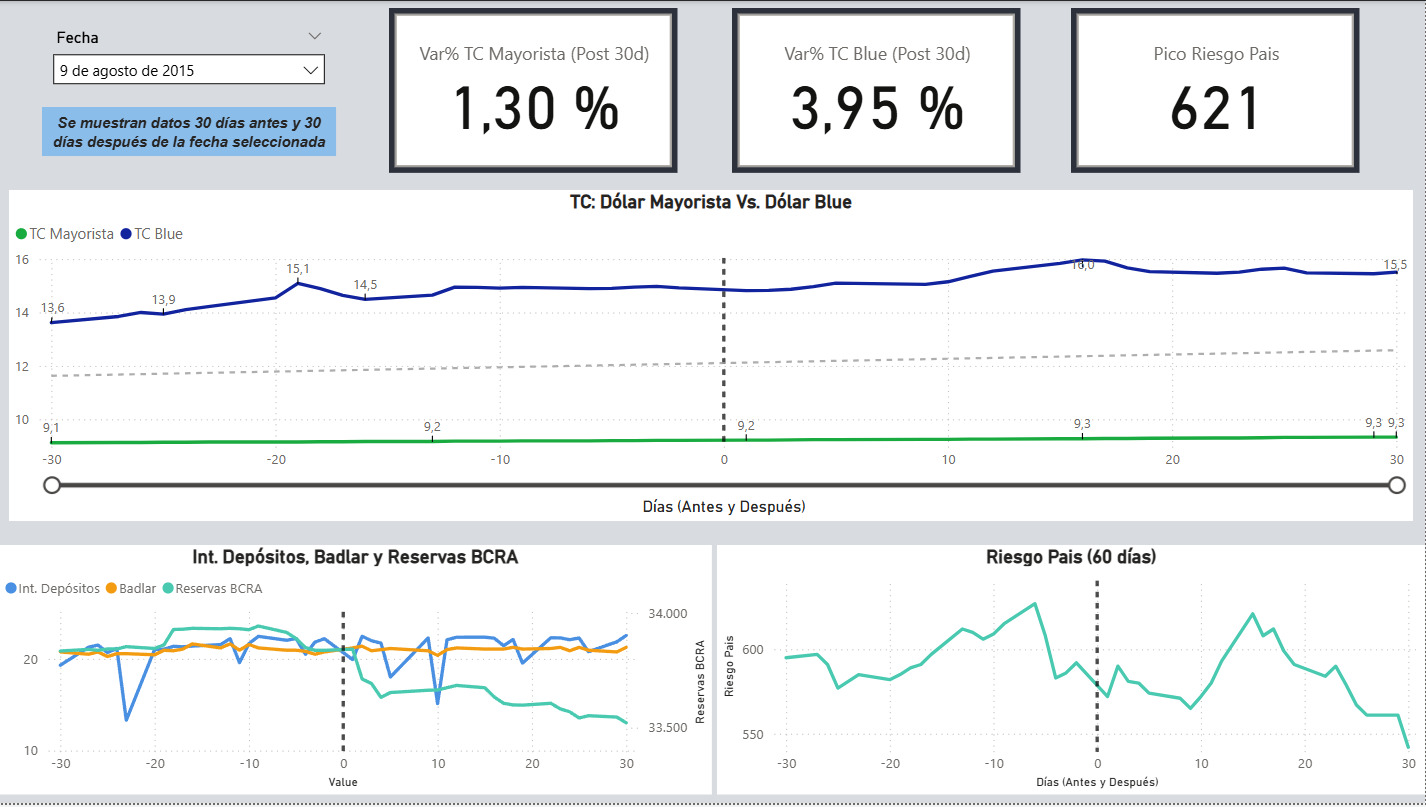

The page's visual inventory and layout, read from the dashboard file:
{"tool":"powerbi","page":{"name":"TC elecciones","canvas":[1280,720],"ordinal":0},"visuals":[{"type":"cardVisual","fields":{"Data":["Medidas Dax.Var% TC Mayorista (Post 30d)"]},"box":[350.1,6.3,259.5,148.1],"z":0},{"type":"lineChart","title":"TC: Dólar Mayorista Vs. Dólar Blue","fields":{"Category":["Dias Relativos.Value"],"Y":["Medidas Dax.TC Mayorista por Dia Relativo","Medidas Dax.TC Blue por Dia Relativo"]},"box":[9,169.7,1260.4,297.2],"z":1000},{"type":"lineChart","title":"Int. Depósitos, Badlar y Reservas BCRA","fields":{"Category":["Dias Relativos.Value"],"Y2":["Medidas Dax.Reservas por Dia Relativo"],"Y":["Medidas Dax.int depositos por Dia Relativo","Medidas Dax.Badlar Dia Relativo"]},"box":[0,488.4,640.1,223.5],"z":2000},{"type":"slicer","fields":{"Values":["Elecciones.Fecha"]},"box":[38.6,19.8,263.9,80.8],"z":3000},{"type":"lineChart","title":"Riesgo Pais (60 días)","fields":{"Category":["Dias Relativos.Value"],"Y":["Medidas Dax.Riesgo Pais por Dia Relativo"]},"box":[644.6,488.4,635.6,223.5],"z":4000},{"type":"cardVisual","fields":{"Data":["Medidas Dax.Var% TC Blue (Post 30d)"]},"box":[658.1,6.3,259.5,148.1],"z":5000},{"type":"cardVisual","title":"Pico Riesgo País","fields":{"Data":["Medidas Dax.Pico Riesgo Pais (Post 30d)"]},"box":[962.4,6.3,259.5,148.1],"z":6000},{"type":"textbox","box":[38.6,95.2,263.9,44],"z":8000}]}

Visuals, with their boxes in screenshot pixels (x1, y1, x2, y2), scaled from the page's 1280x720 canvas onto the 1426x807 screenshot:
cardVisual - Medidas Dax.Var% TC Mayorista (Post 30d): pyautogui.locateOnScreen(390, 7, 679, 173)
"TC: Dólar Mayorista Vs. Dólar Blue" lineChart: pyautogui.locateOnScreen(10, 190, 1414, 523)
"Int. Depósitos, Badlar y Reservas BCRA" lineChart: pyautogui.locateOnScreen(0, 547, 713, 798)
slicer - Elecciones.Fecha: pyautogui.locateOnScreen(43, 22, 337, 113)
"Riesgo Pais (60 días)" lineChart: pyautogui.locateOnScreen(718, 547, 1425, 798)
cardVisual - Medidas Dax.Var% TC Blue (Post 30d): pyautogui.locateOnScreen(733, 7, 1022, 173)
"Pico Riesgo País" cardVisual: pyautogui.locateOnScreen(1072, 7, 1361, 173)
textbox: pyautogui.locateOnScreen(43, 107, 337, 156)
